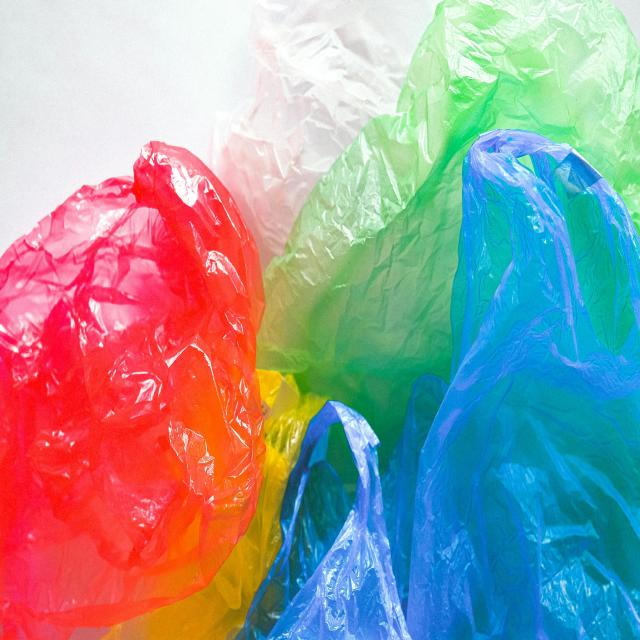Single-layer Plastic: (258, 0, 640, 467), (0, 142, 265, 638), (384, 129, 640, 639), (100, 371, 325, 639), (212, 0, 409, 268), (242, 401, 410, 639)
